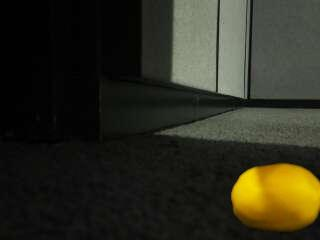Lemon: (230, 163, 320, 235)
